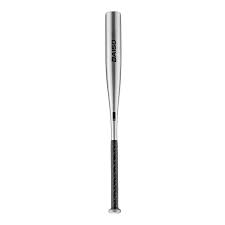baseball bat: (102, 10, 123, 214)
